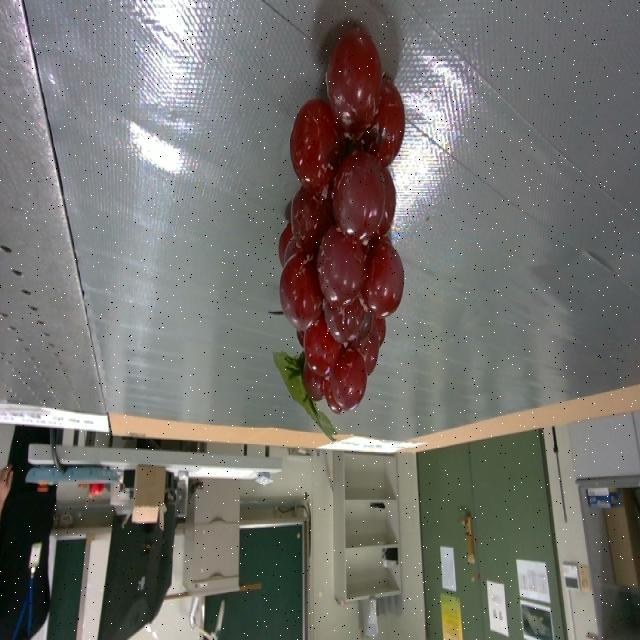grape: (275, 29, 405, 434)
